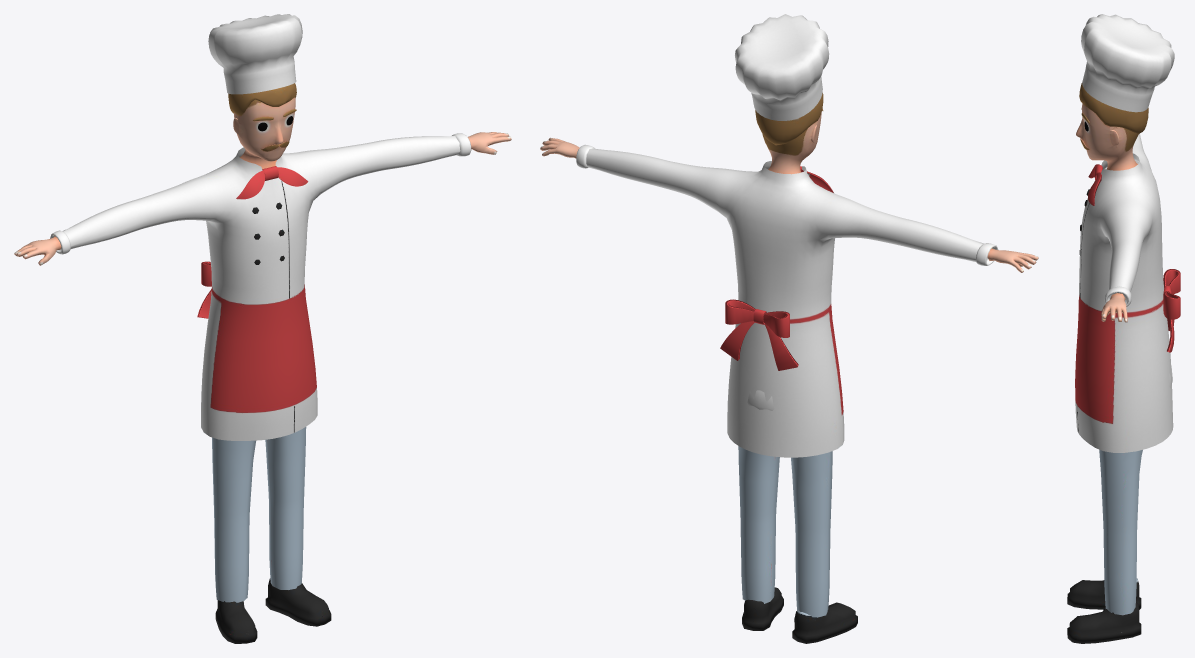
The model's file is Chef_v003.obj.
3 renders of one model, left to right at view 1: azimuth 30°, elevation 25°; view 2: azimuth 150°, elevation 25°; view 3: azimuth 270°, elevation 25°, orthographic.
Visible parts, largest first — view 1: Chefv003; view 2: Chefv003; view 3: Chefv003.
Boxes of the visible parts, bbox=[...] form: Chefv003: bbox=[14, 14, 511, 643]; Chefv003: bbox=[540, 14, 1038, 643]; Chefv003: bbox=[1067, 14, 1180, 643].
Size of the model in its own units: 71.22 by 83.26 by 14.3.
